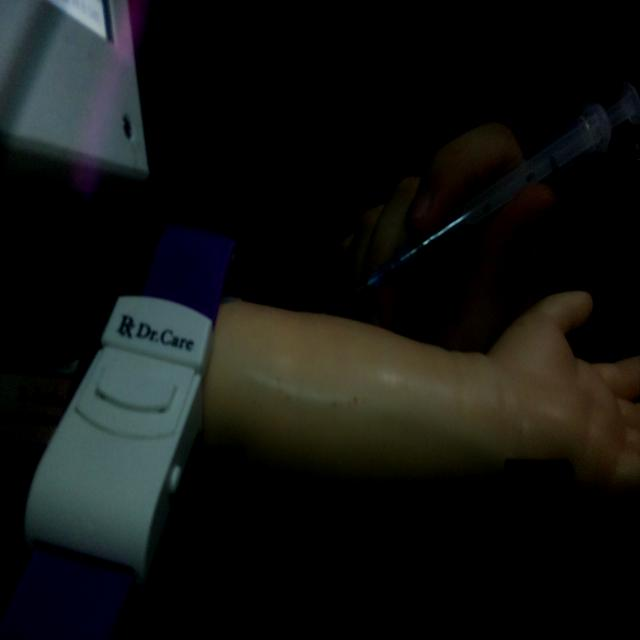23 degrees: (325, 80, 637, 314)
